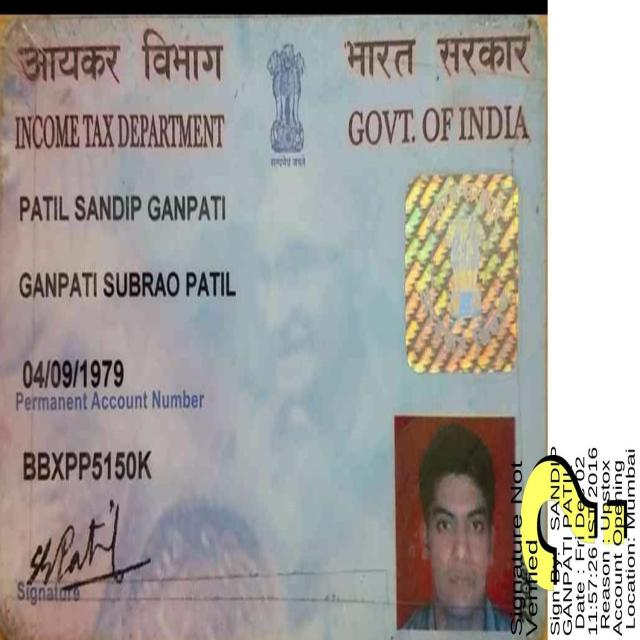pan_card: (0, 12, 548, 640)
